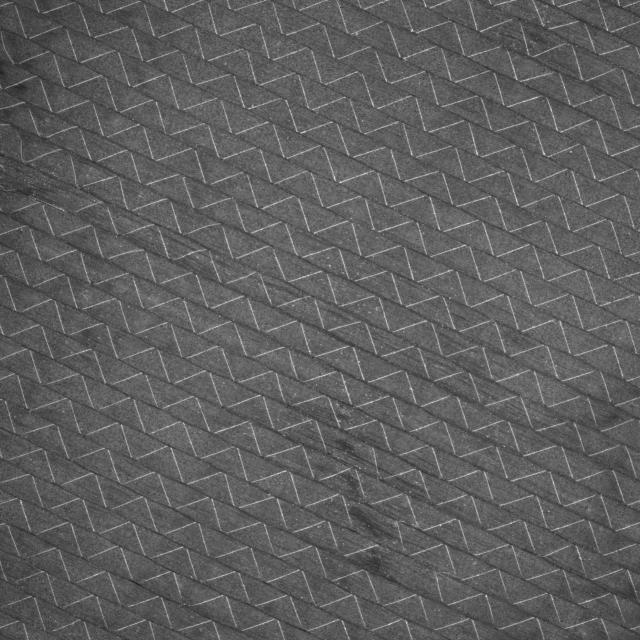carbon-fibre-defect: (360, 541, 438, 591), (320, 417, 382, 479), (352, 503, 423, 551)
